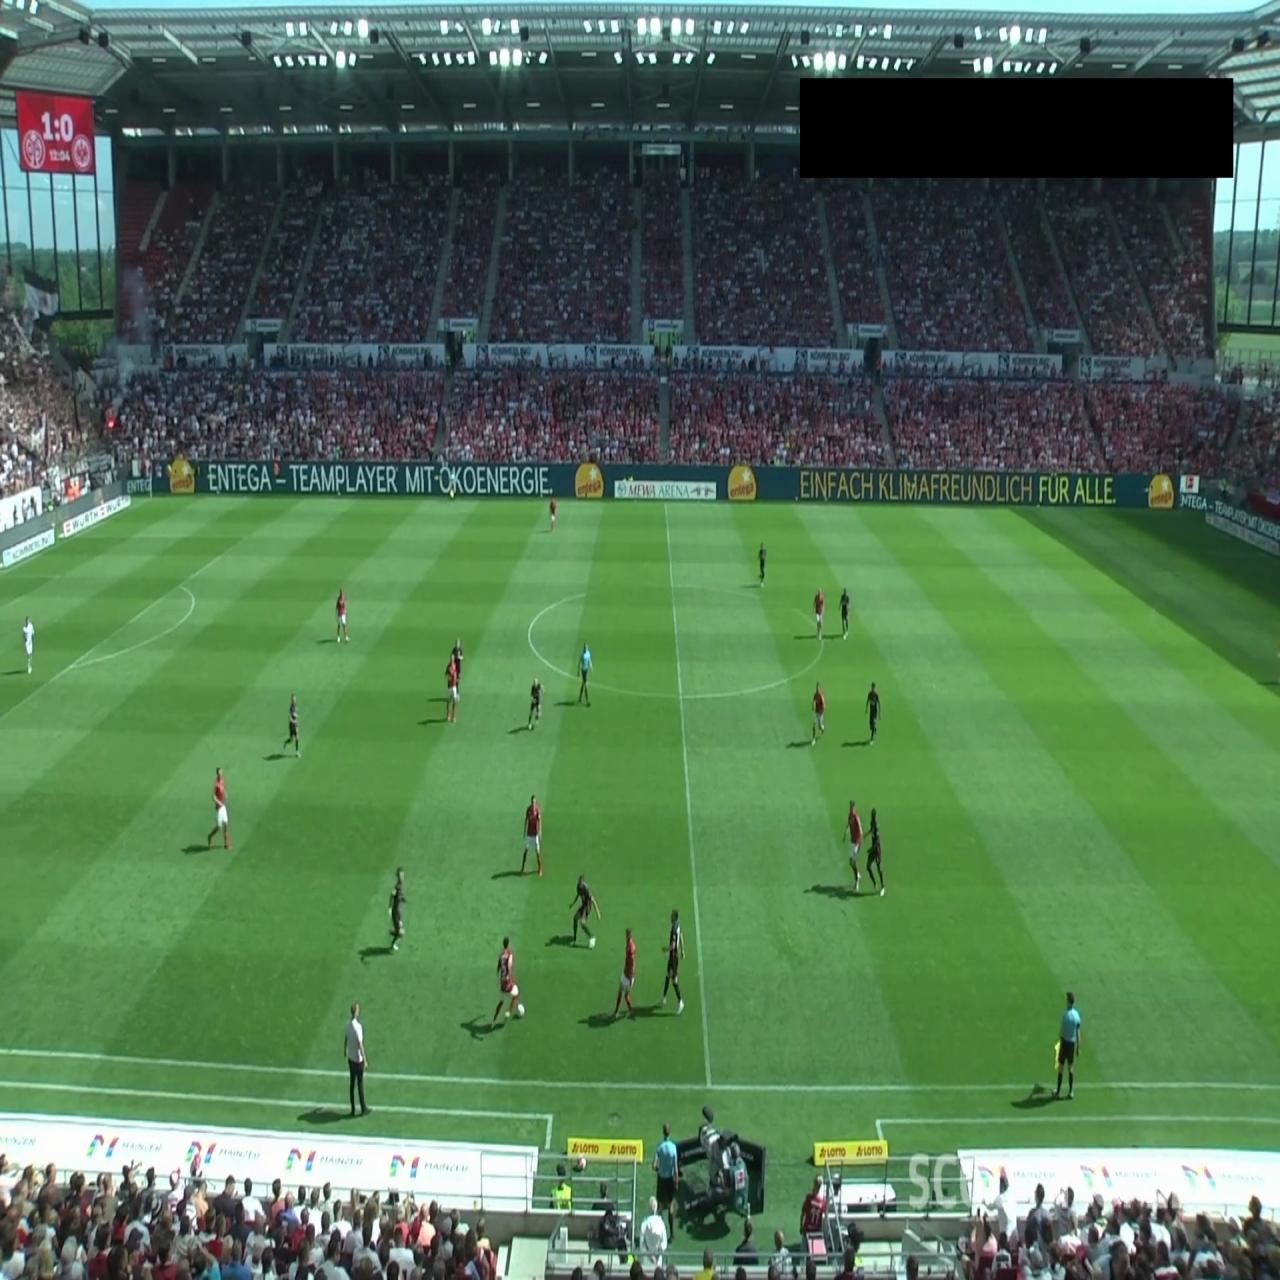ball: (516, 1001, 526, 1018)
goalkeeper: (22, 614, 35, 674)
player: (657, 908, 685, 1014), (491, 936, 524, 1025), (568, 872, 602, 952), (612, 926, 636, 1022), (207, 767, 234, 851), (844, 799, 864, 892), (520, 794, 542, 877), (866, 807, 886, 895), (388, 866, 408, 953), (282, 692, 300, 757), (526, 676, 546, 733), (448, 634, 464, 704), (865, 680, 881, 743), (445, 654, 459, 723), (811, 680, 826, 742), (335, 588, 350, 643), (814, 586, 826, 638), (838, 588, 850, 639), (757, 542, 767, 586), (550, 495, 558, 531)
referee: (1052, 991, 1082, 1104), (576, 641, 594, 710), (448, 471, 456, 504)
